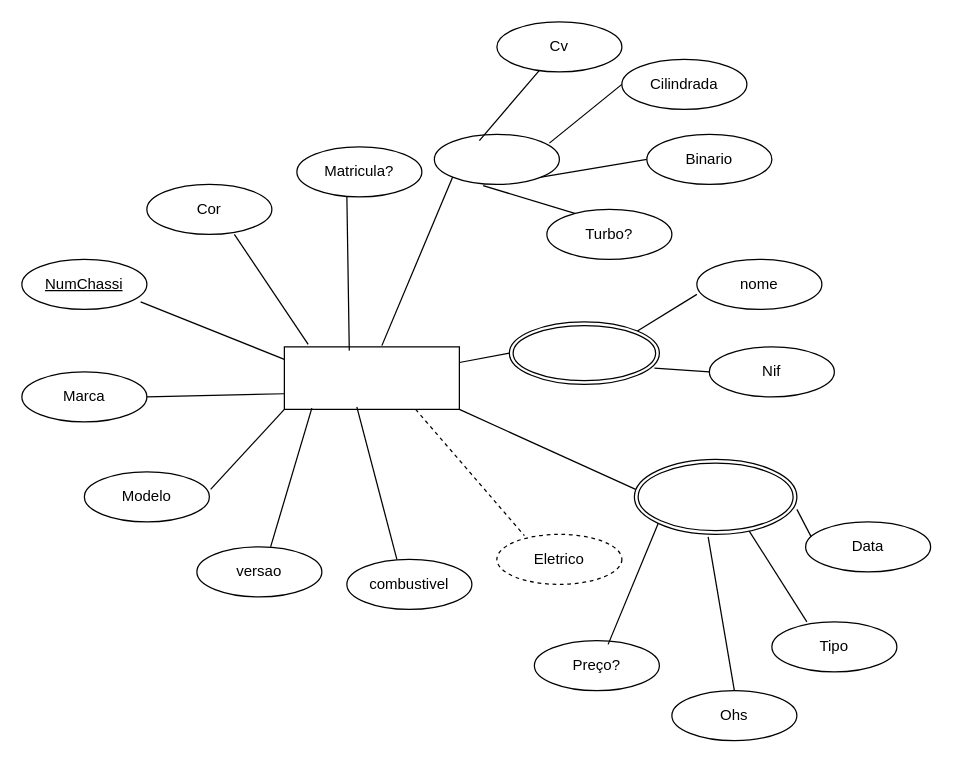
Image size: 953x763. Some labels were removed from this diagram. The shapes that lost their labels are listed below. From the top down, each one's centre as x and y in pixels, then its label:
the point at 496,158: Motor
the point at 583,352: Demo
the point at 371,377: CARRO
the point at 715,496: Custom
